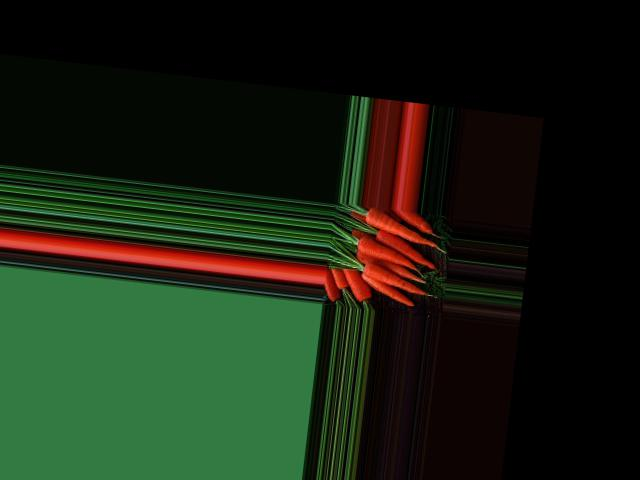carrot: (356, 206, 448, 243)
